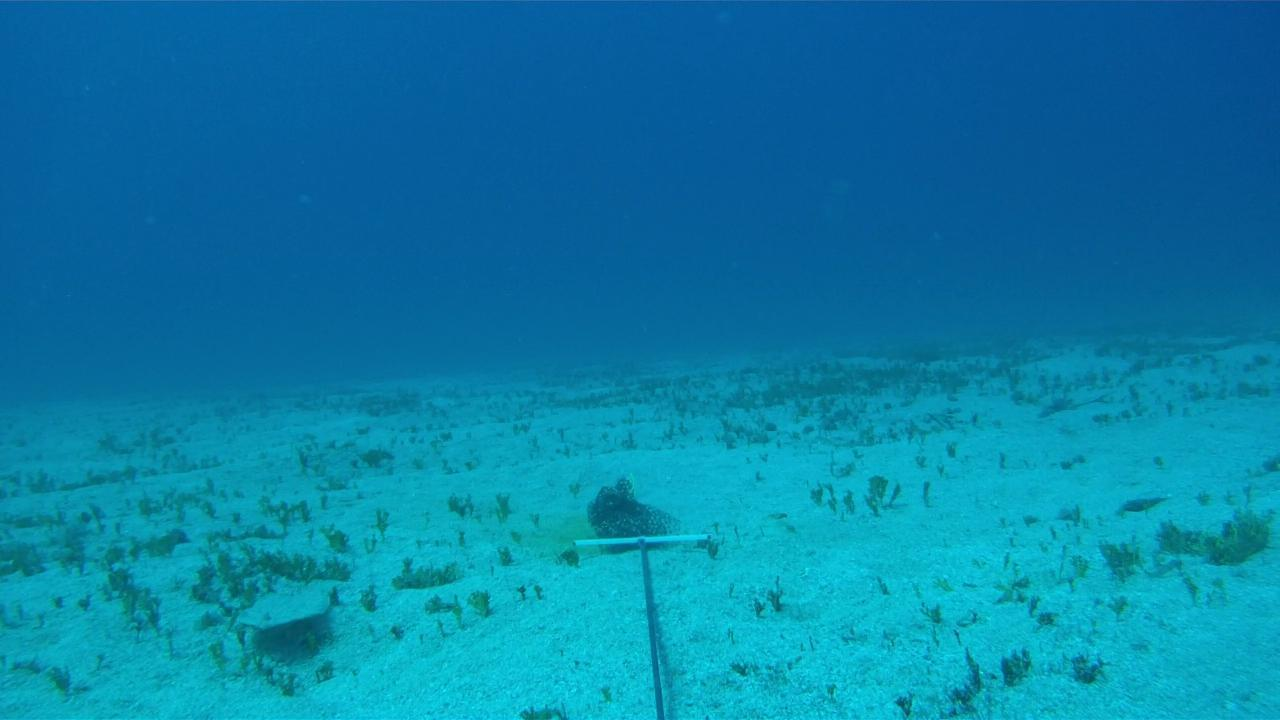bothus: (234, 583, 333, 634)
